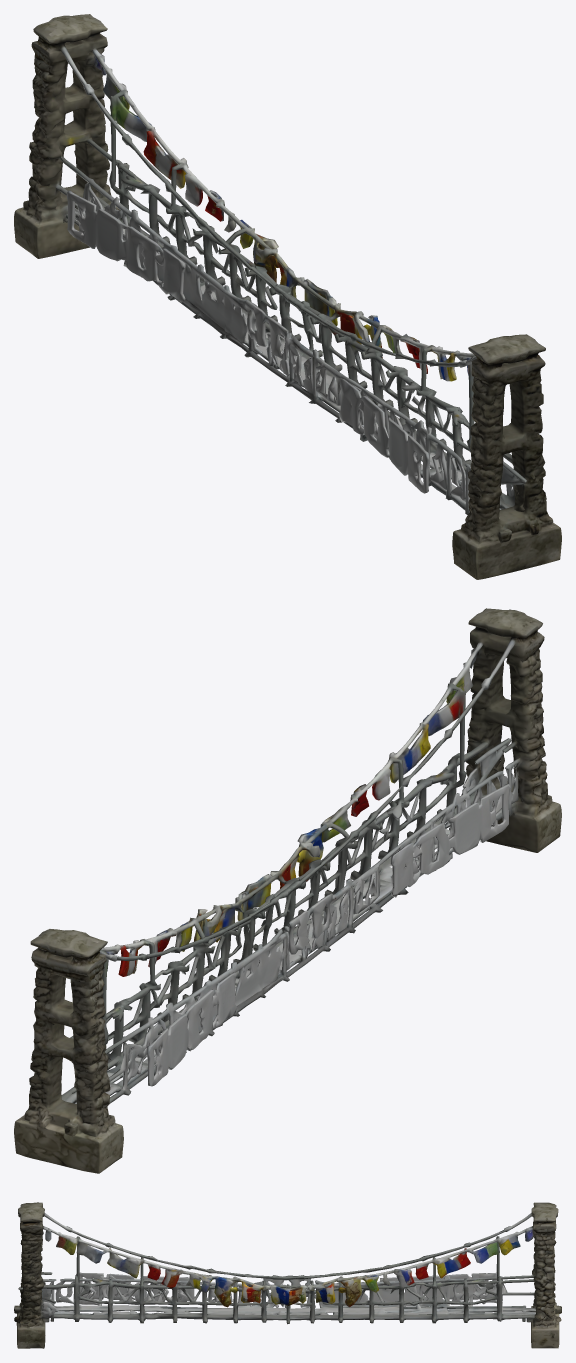
Rendered from suspension_bridge.glb.
The picture shows the model from 3 angles, top to bottom: view 1: azimuth 30°, elevation 25°; view 2: azimuth 150°, elevation 25°; view 3: azimuth 270°, elevation 25°; orthographic projection. The views are drawn at different scales.
Parts seen in each view (by area): view 1: tripo_node_3a292b5b-2fc8-4b8f-9eaf-ec5bc03b84ac; view 2: tripo_node_3a292b5b-2fc8-4b8f-9eaf-ec5bc03b84ac; view 3: tripo_node_3a292b5b-2fc8-4b8f-9eaf-ec5bc03b84ac.
Part boxes in pixels (left/top/right/bottom): tripo_node_3a292b5b-2fc8-4b8f-9eaf-ec5bc03b84ac: left=14, top=14, right=561, bottom=579; tripo_node_3a292b5b-2fc8-4b8f-9eaf-ec5bc03b84ac: left=14, top=608, right=561, bottom=1173; tripo_node_3a292b5b-2fc8-4b8f-9eaf-ec5bc03b84ac: left=14, top=1202, right=561, bottom=1348.
Bounding box in the file's own units: 0.8267 × 2 × 7.65.
1 material, 1 textured.
